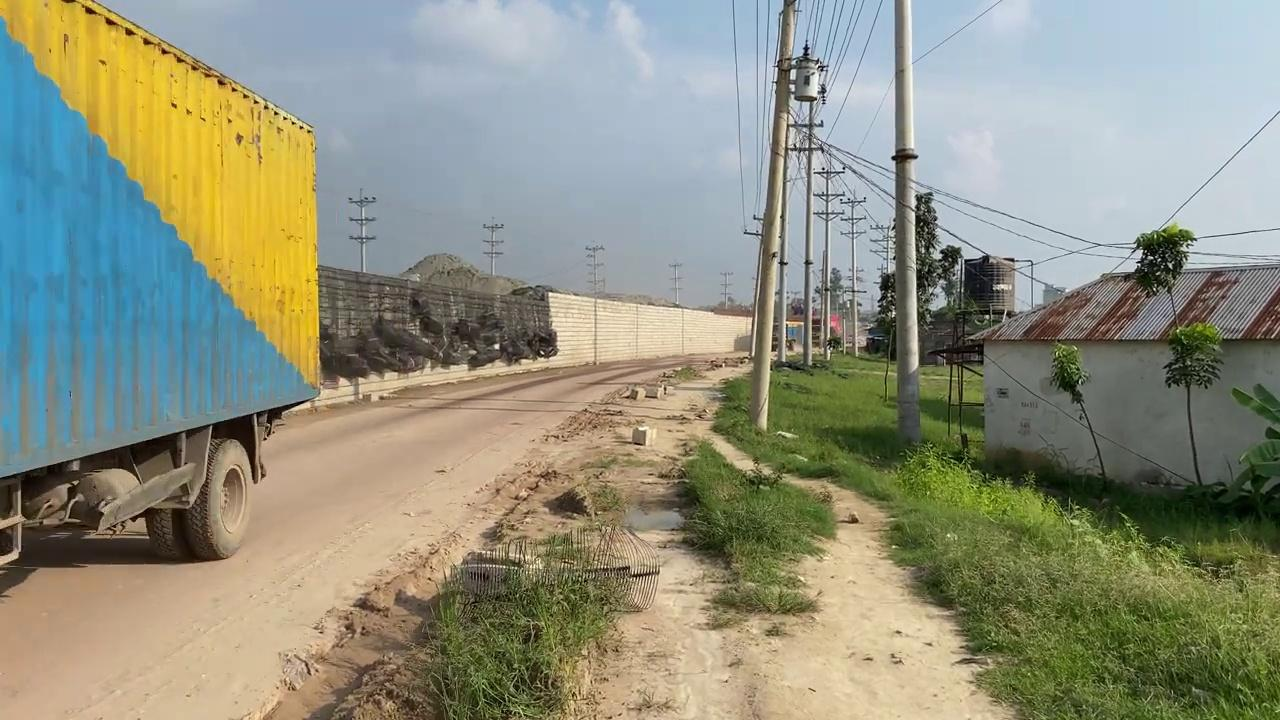Muddy road: (0, 351, 745, 720)
Pole: (747, 0, 798, 431), (892, 0, 921, 446)
Traffic-sign: (872, 189, 962, 360), (1160, 320, 1224, 486)
Tree: (0, 0, 322, 567)
